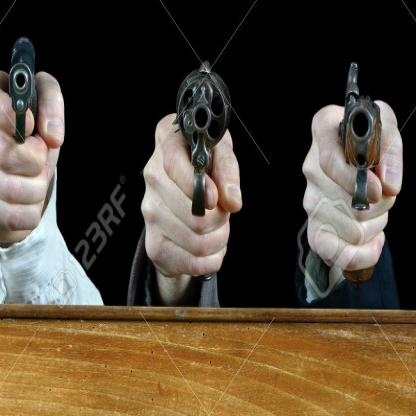gun: (306, 38, 408, 283), (156, 16, 252, 239), (0, 9, 73, 234)
